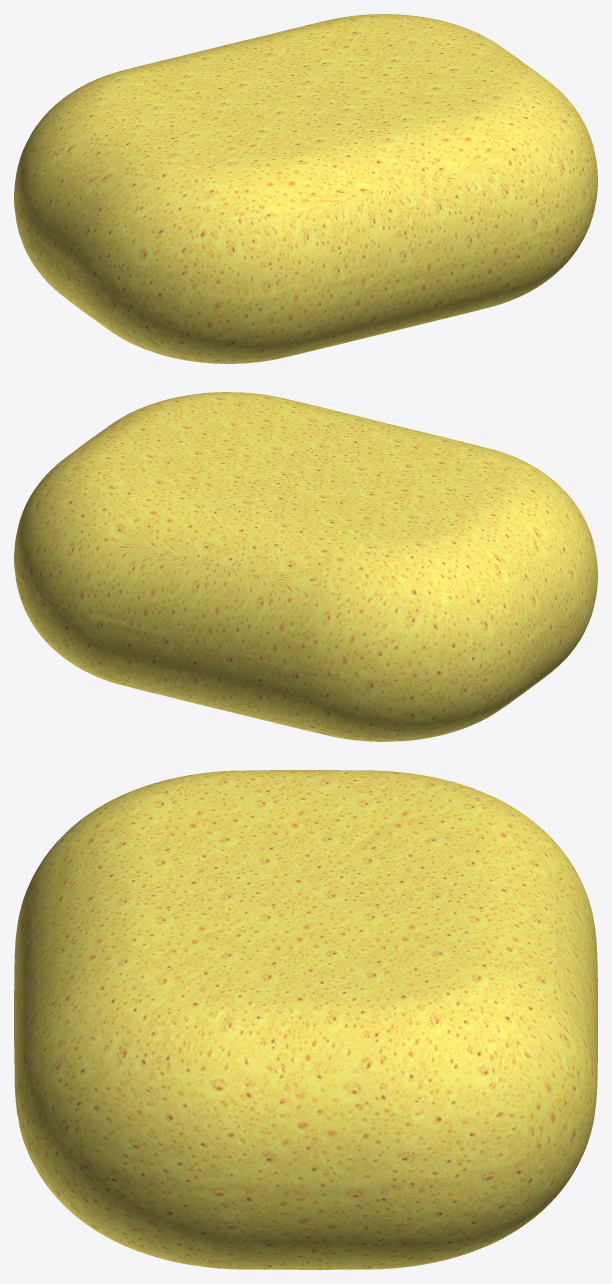
The picture shows the model from 3 angles, top to bottom: view 1: azimuth 30°, elevation 25°; view 2: azimuth 150°, elevation 25°; view 3: azimuth 270°, elevation 25°; orthographic projection. The views are drawn at different scales.
Visible parts, largest first — view 1: oval_sponge; view 2: oval_sponge; view 3: oval_sponge.
Boxes of the visible parts, left/top/right/bottom form: oval_sponge: left=14, top=14, right=597, bottom=363; oval_sponge: left=14, top=392, right=597, bottom=741; oval_sponge: left=14, top=770, right=597, bottom=1269.
Size of the model in its own units: 0.1596 by 0.0597 by 0.1196.
1 material, 1 textured.
